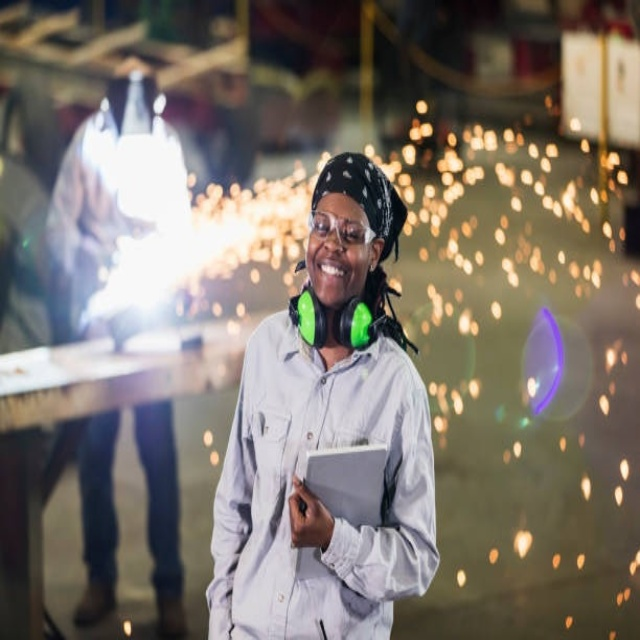Gafas: (307, 210, 377, 248)
Sin_guantes: (286, 475, 331, 550)
Sin_mascara: (315, 251, 350, 292)
